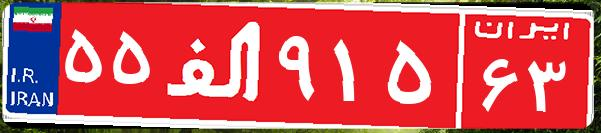1: (330, 28, 385, 110)
3: (525, 38, 570, 115)
5: (385, 28, 445, 110), (57, 26, 110, 107), (110, 28, 158, 105)
6: (475, 38, 525, 113)
9: (273, 28, 330, 110)
الف: (158, 15, 273, 115)
